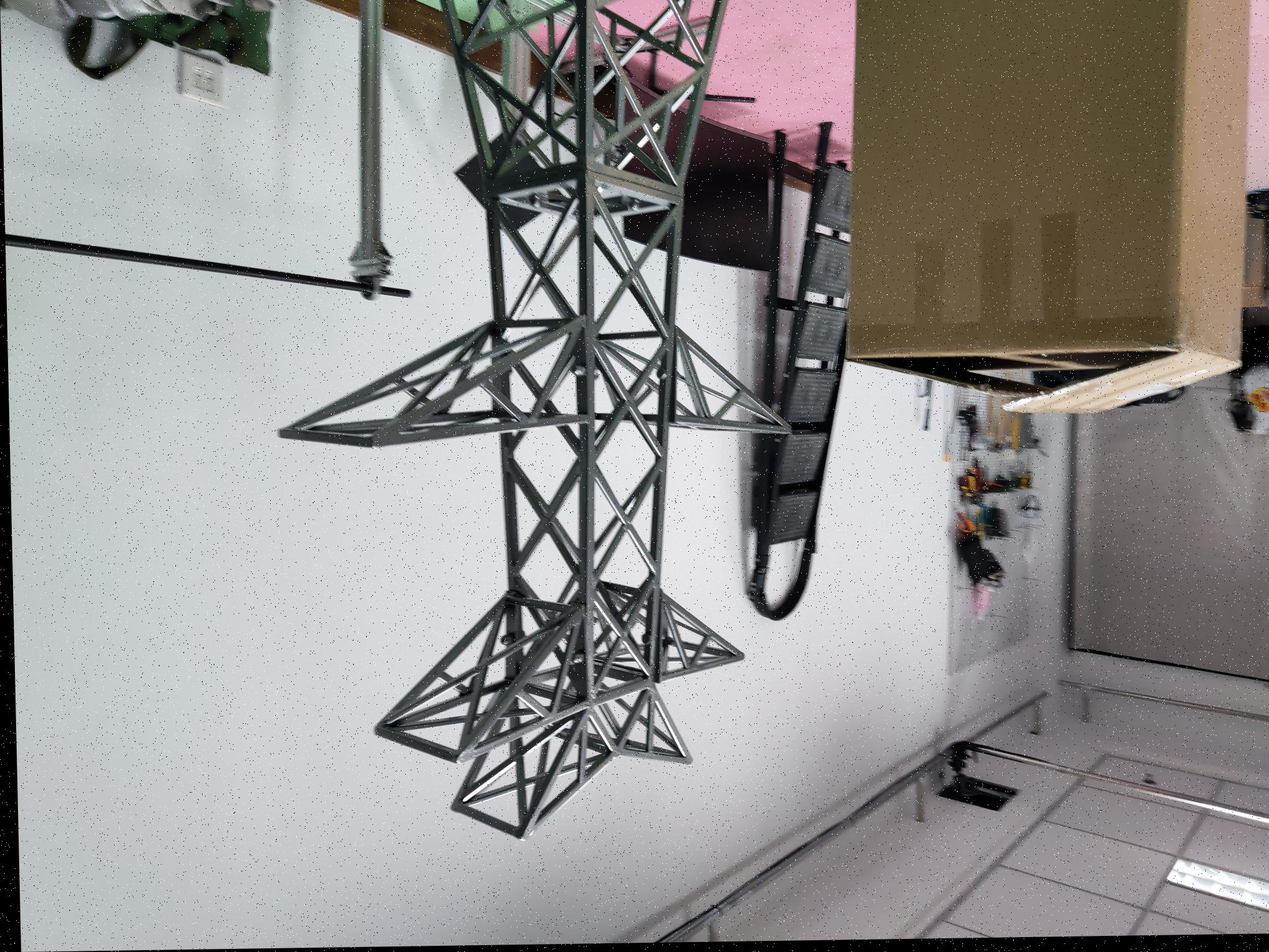tower: (309, 0, 799, 844)
